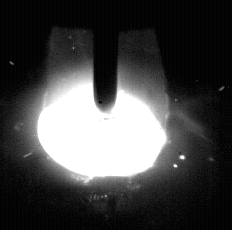arame: (94, 0, 119, 113)
poca: (36, 0, 167, 230)
